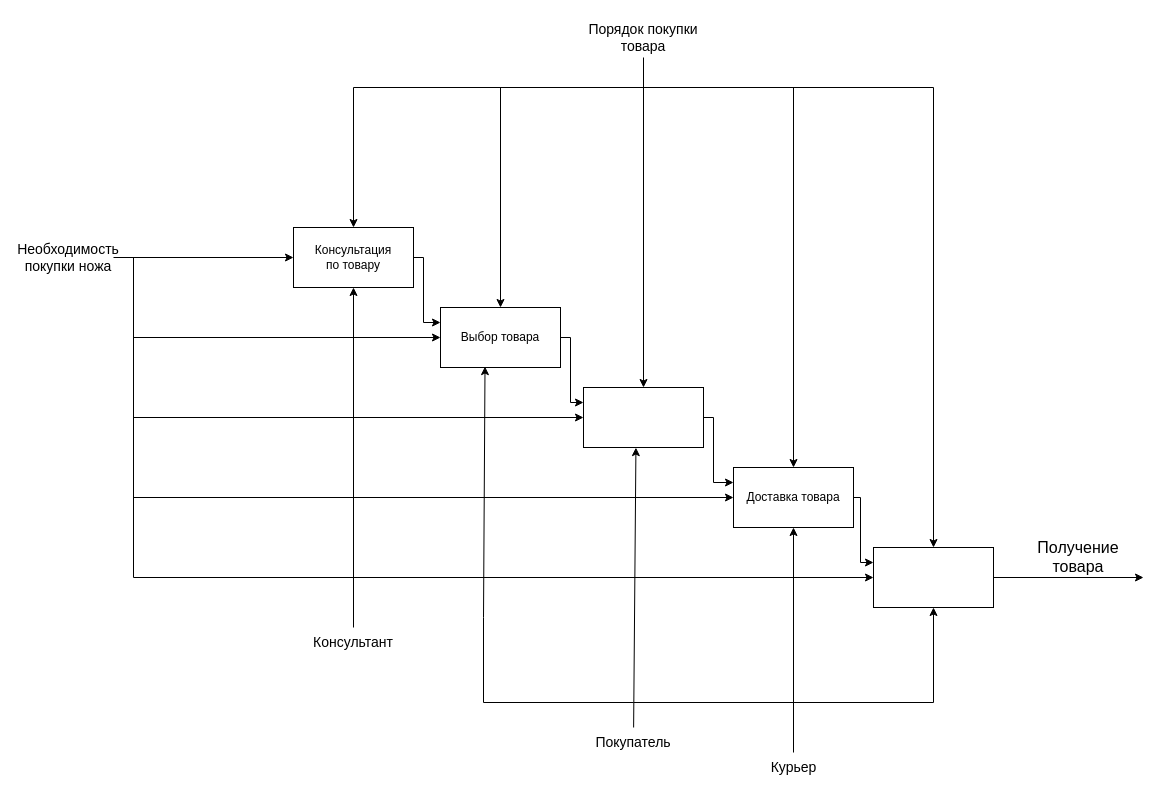
Image size: 1169x799. Some labels were removed from this diagram. The centre of each missing label's shape, as x and y in pixels:
"Заключение договора о оплате" goes at pixel 643 417.
"Получение товара , оплата курьеру" goes at pixel 933 577.
